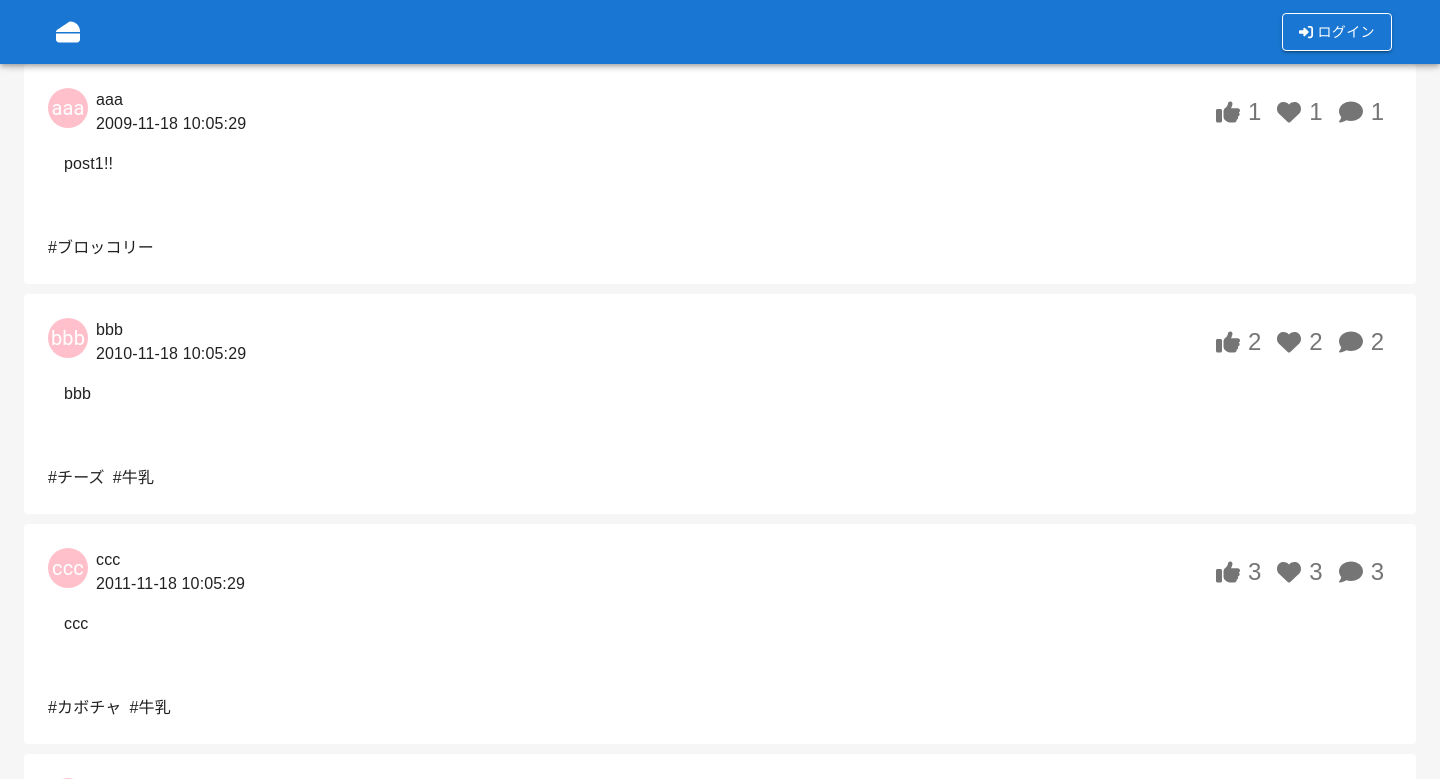
Test: ポストカードクリック
Click the element with test id "post-card" that starts with "aaa": click(720, 174) [24,64,1416,284]
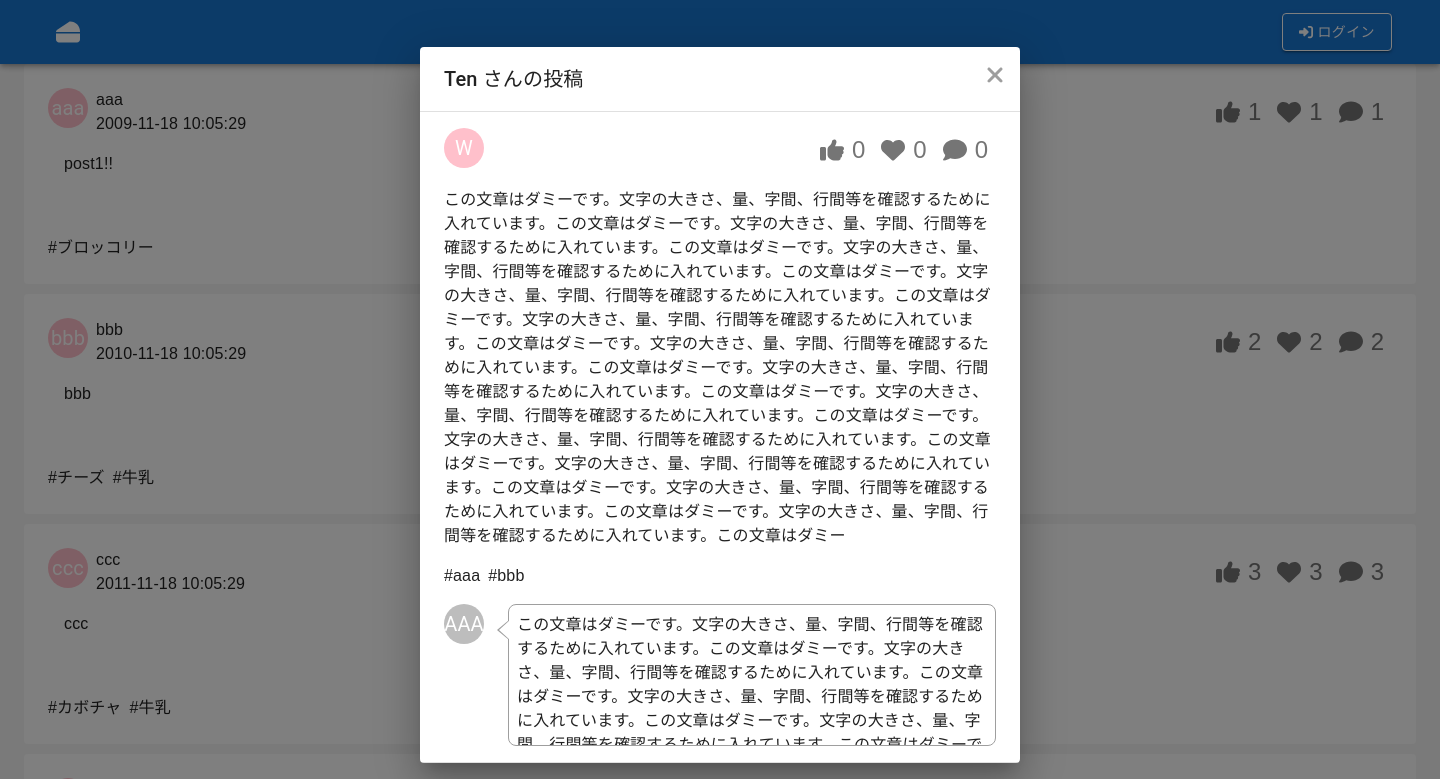
Expected: the heading "Ten さんの投稿" is shown, [444,67,584,91]
